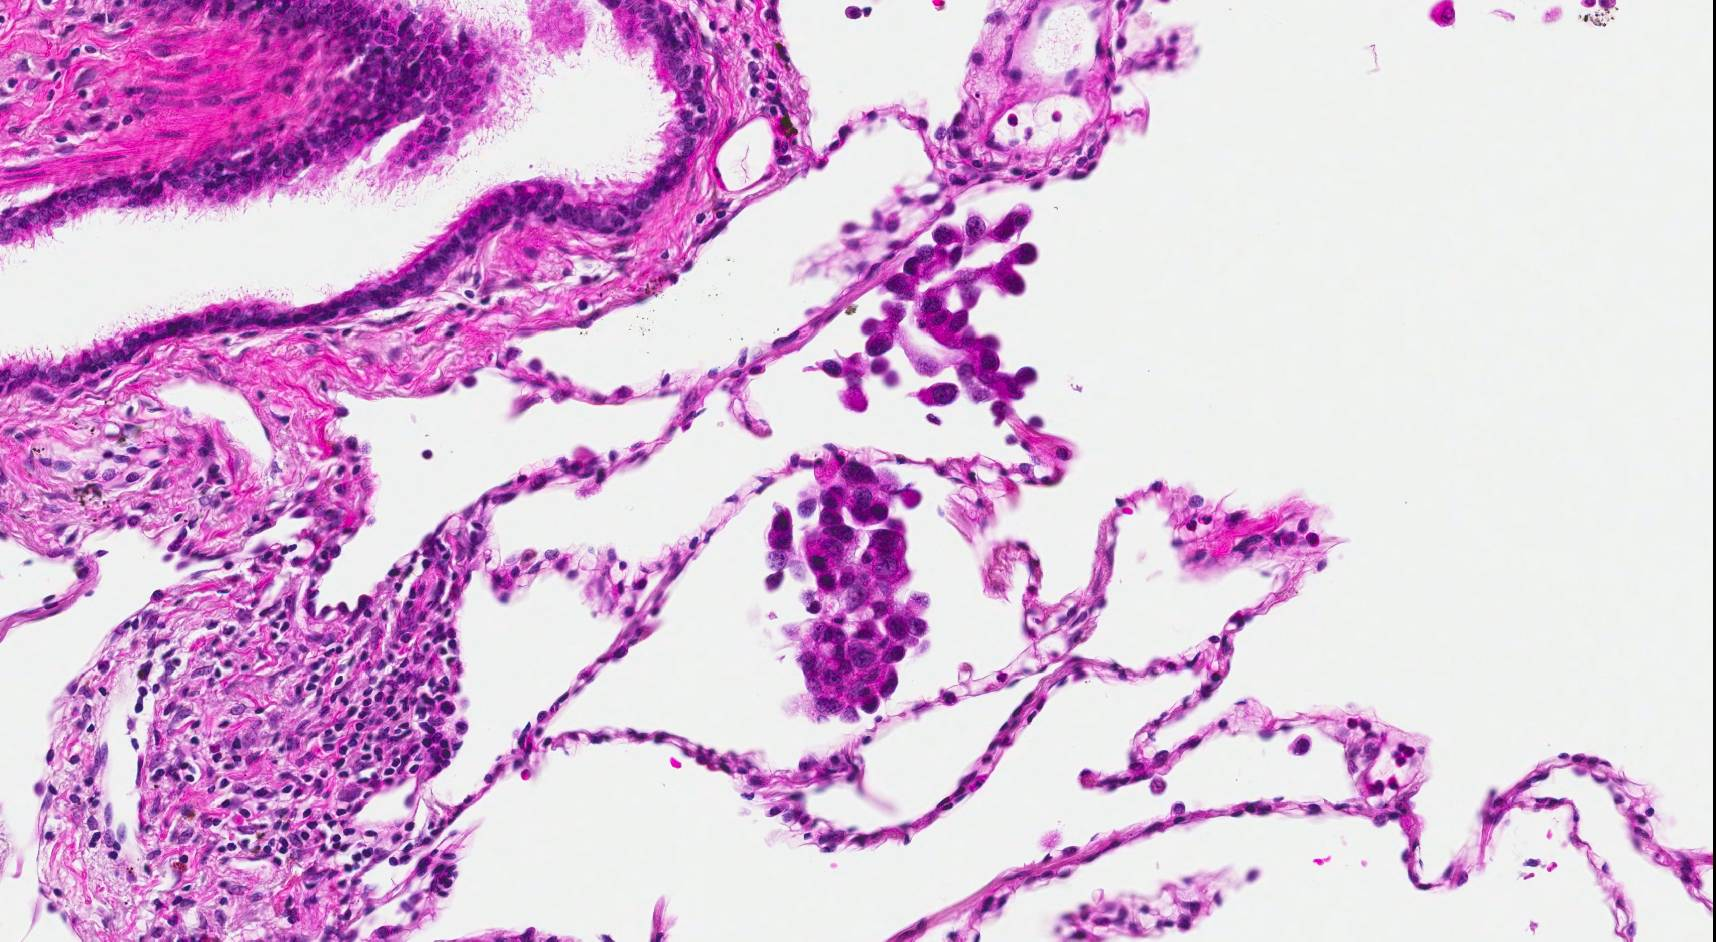stas: (812, 202, 1040, 410), (766, 458, 931, 729)
